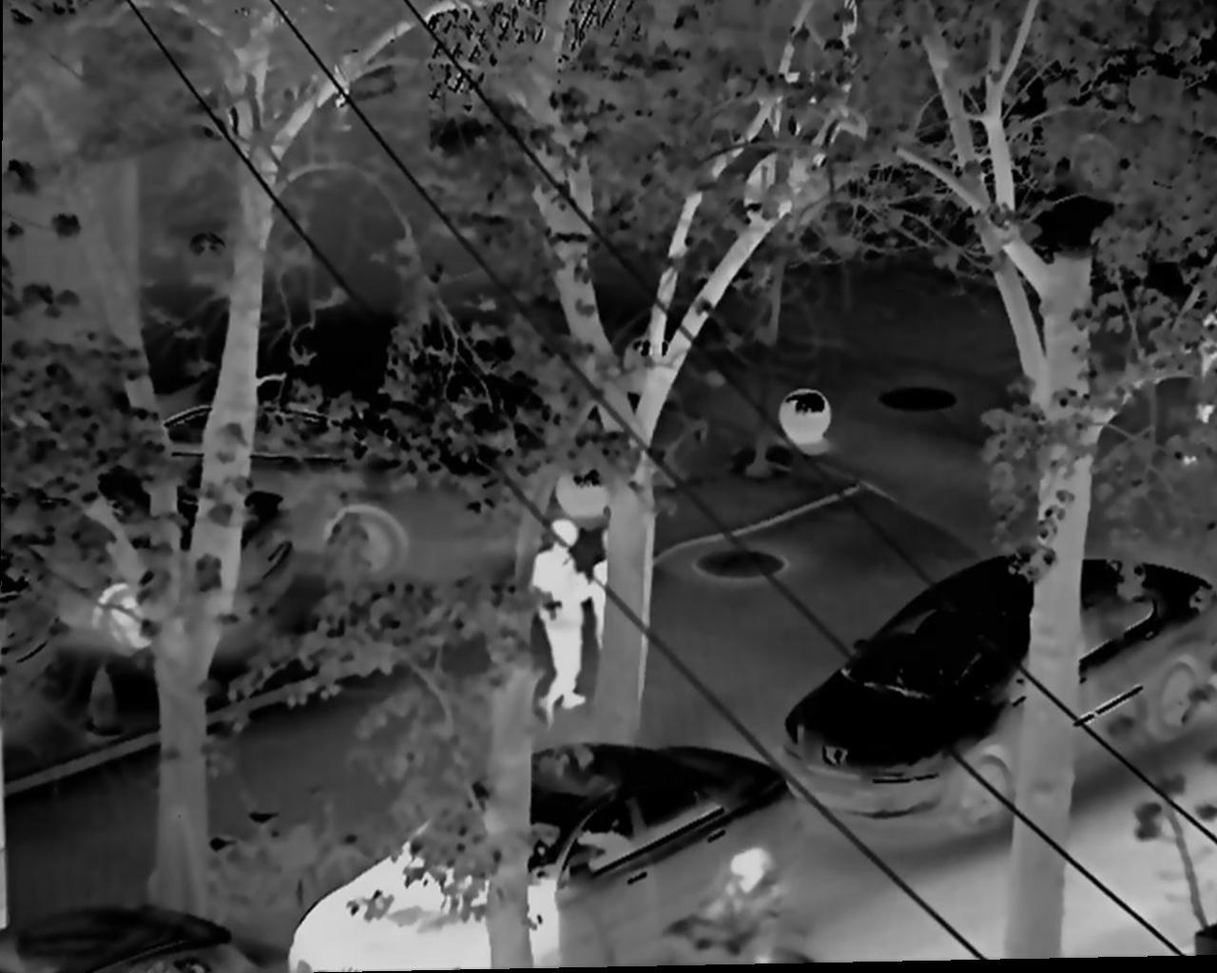person: (522, 515, 591, 723), (584, 541, 651, 710)
